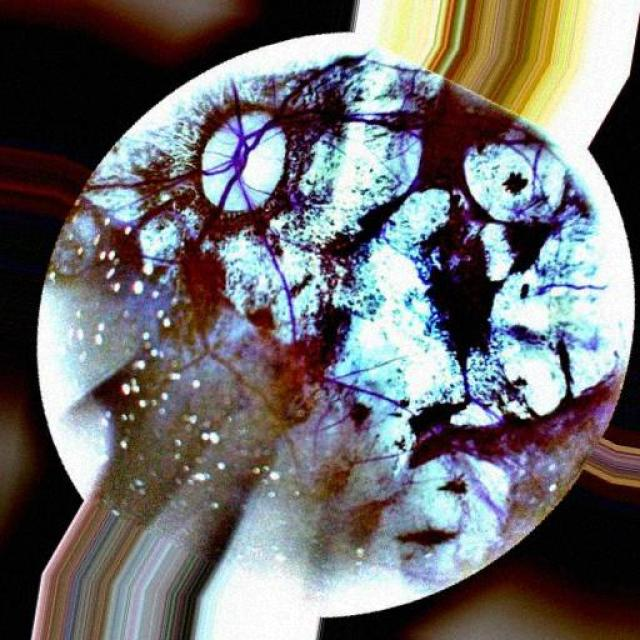Nerves: (256, 53, 363, 153), (88, 165, 238, 189), (230, 83, 249, 164), (208, 164, 239, 212), (234, 178, 256, 207)
Optic Disk: (199, 114, 292, 212)
